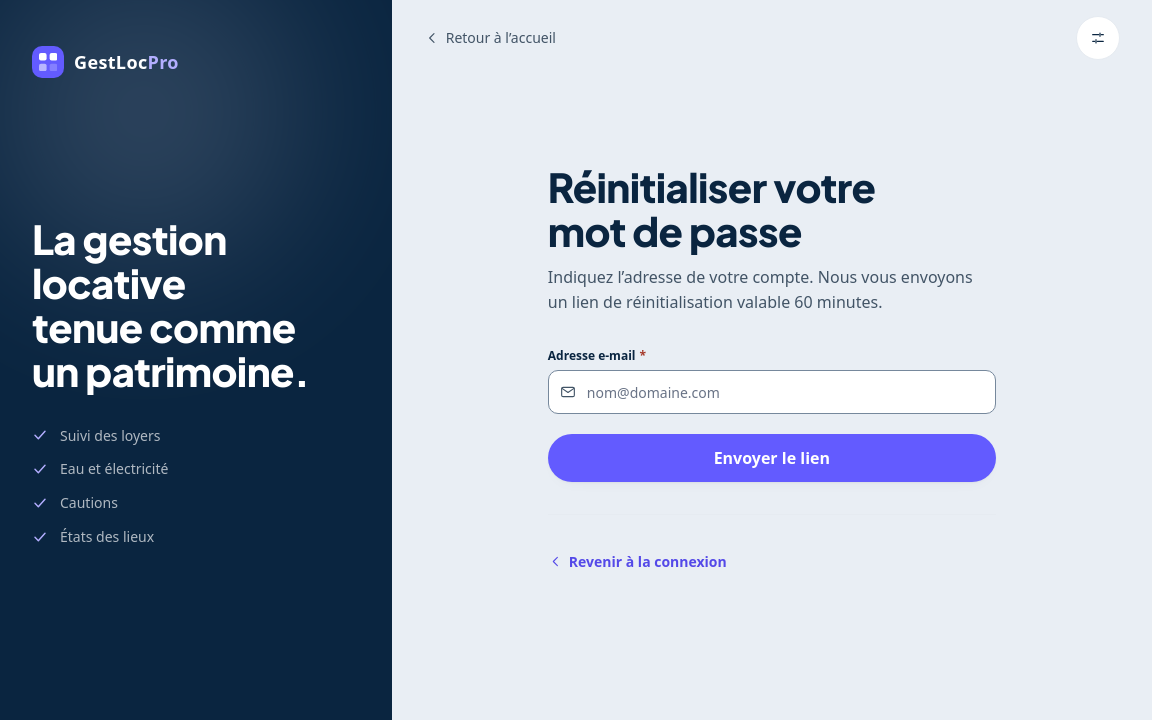
Test: mot de passe oublié › garde une sortie vers le formulaire, sans rien renvoyer
This screenshot has width=1152, height=720.
In the field labelled "Adresse e-mail*": (772,392) [548,370,996,414], type "proprietaire@exemple.cm"
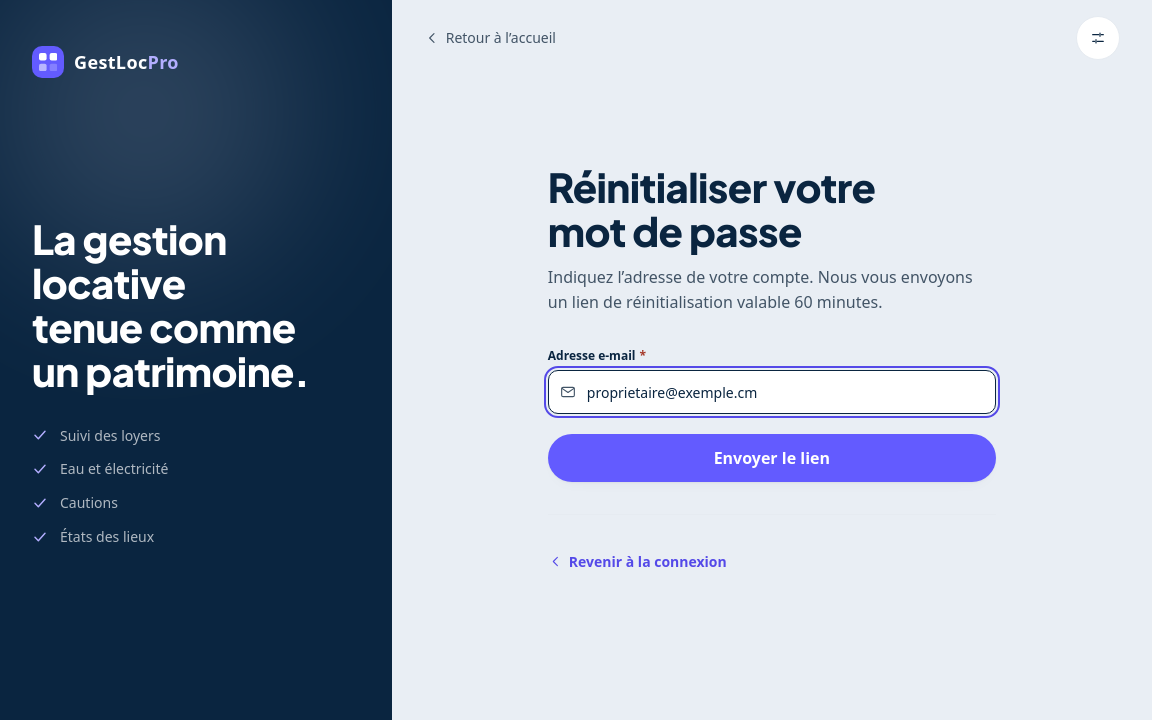
Click the button "Envoyer le lien": (772,458) [548,434,996,482]
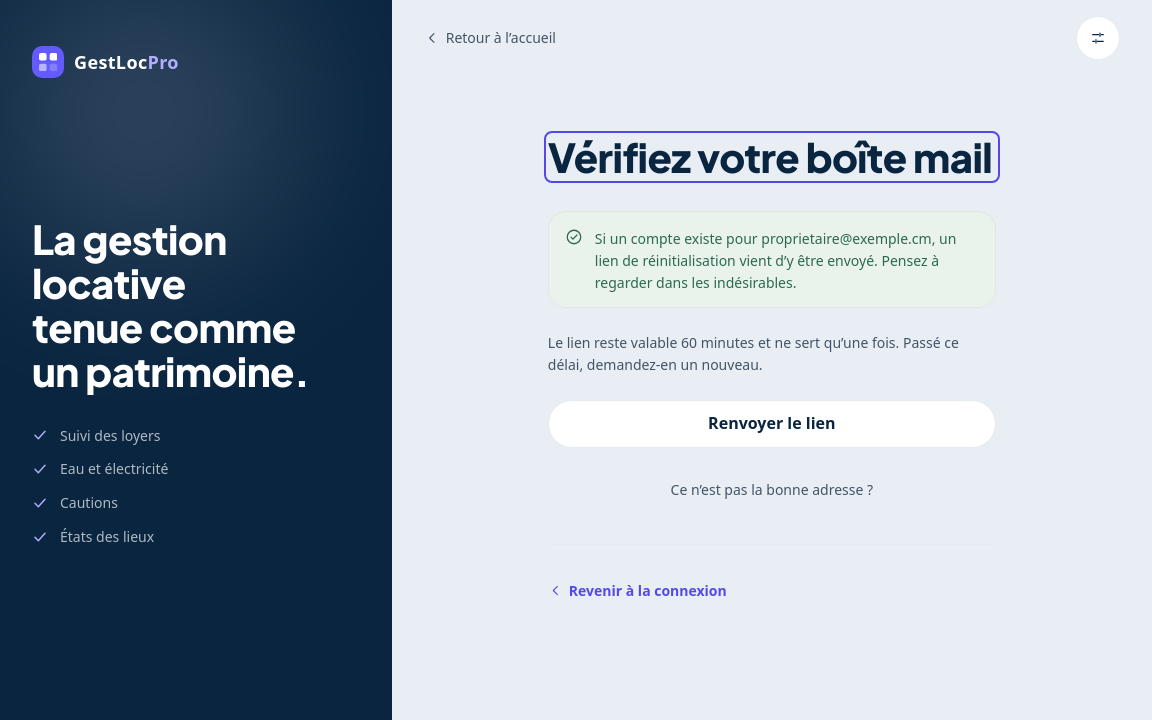
Expected: the button "Renvoyer le lien" is shown, [548,400,996,448]
Click the button "Ce n’est pas la bonne adresse ?": (772,490) [663,468,881,512]
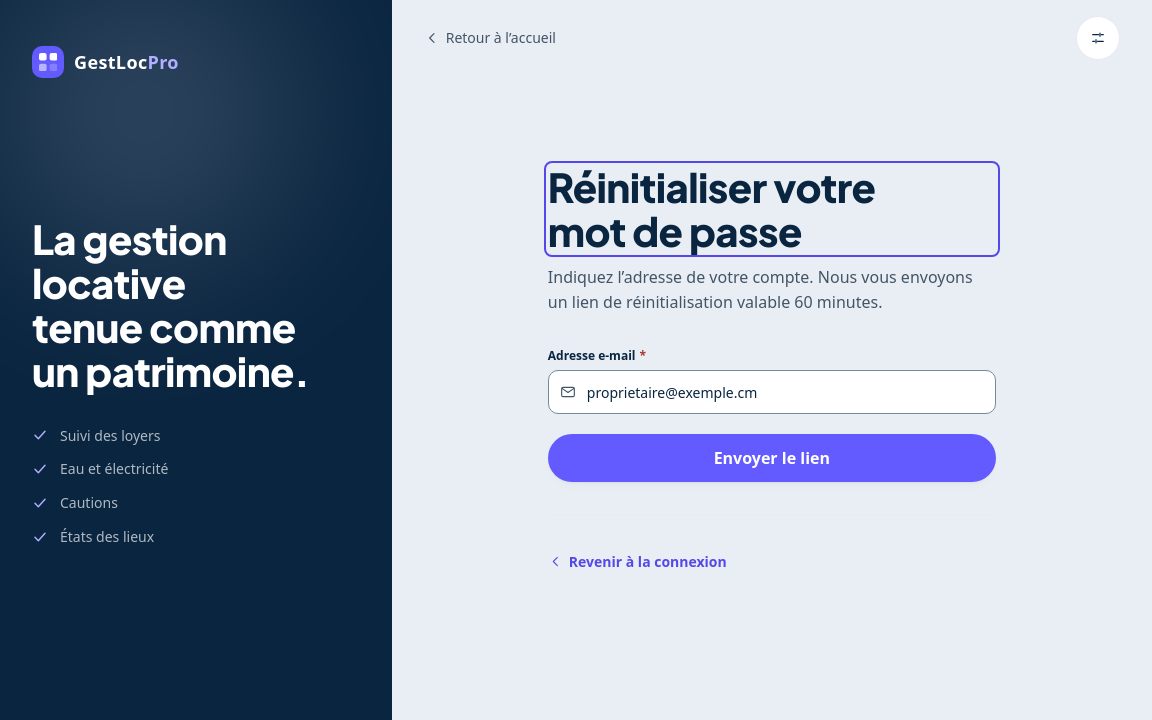
Expected: the field labelled "Adresse e-mail*" holds "proprietaire@exemple.cm", [548,370,996,414]
